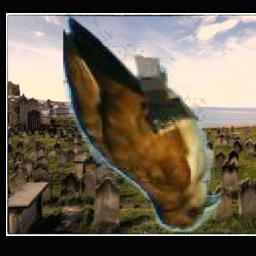Cuckoo: (64, 13, 222, 232)
